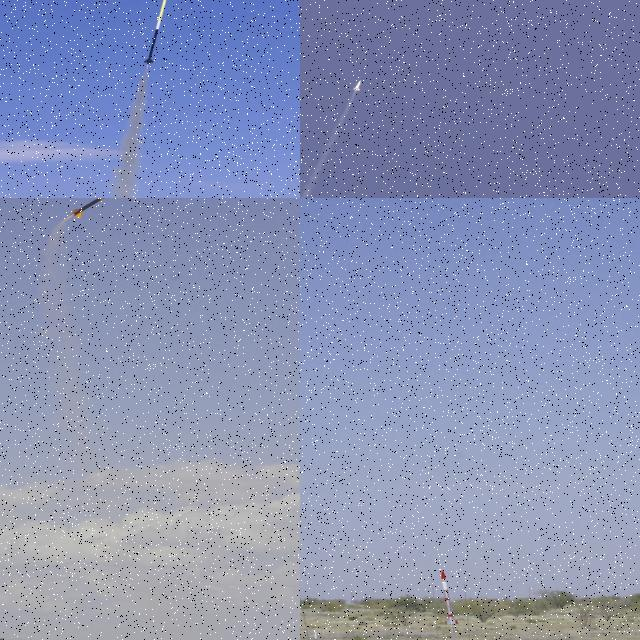Rocket: (143, 0, 169, 65), (441, 569, 459, 626), (70, 198, 115, 218), (353, 80, 361, 92)
